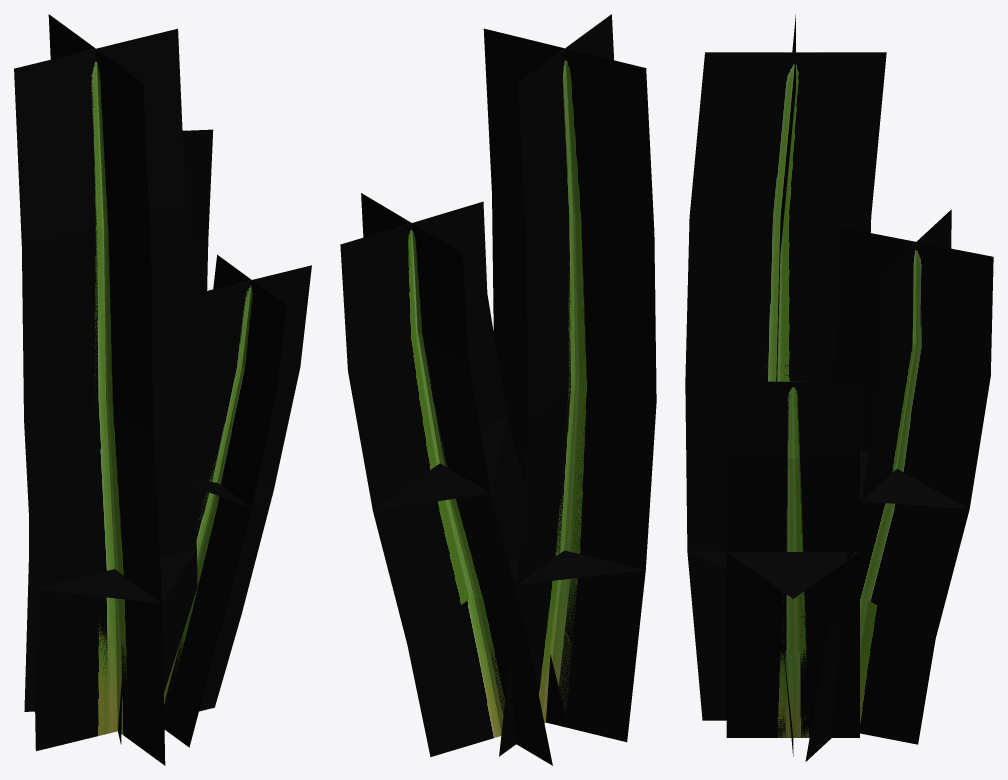
Rendered from ShoalGrass.fbx.
3 views of the same model, side by side, from view 1: azimuth 30°, elevation 25°; view 2: azimuth 150°, elevation 25°; view 3: azimuth 270°, elevation 25° (orthographic). The views are drawn at different scales.
Parts seen in each view (by area): view 1: Plane.001; view 2: Plane.001; view 3: Plane.001.
Part boxes in pixels (left/top/right/bottom): Plane.001: left=14, top=14, right=311, bottom=765; Plane.001: left=340, top=14, right=656, bottom=765; Plane.001: left=685, top=15, right=993, bottom=761.
Bounding box in the file's own units: 145 × 320 × 136.
